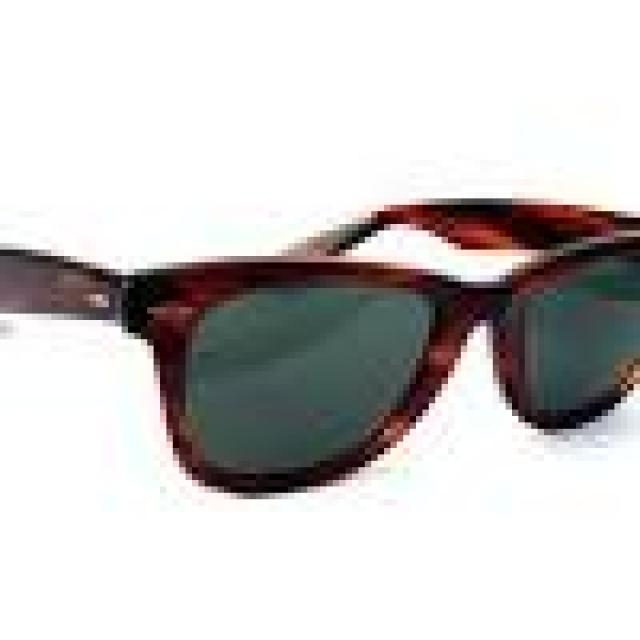suspicious-objects: (125, 208, 637, 496)
